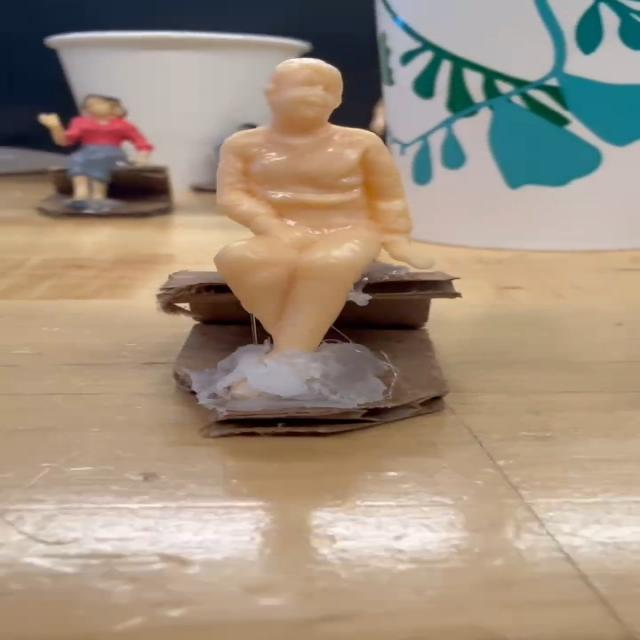Unauthorized: (149, 47, 481, 442)
